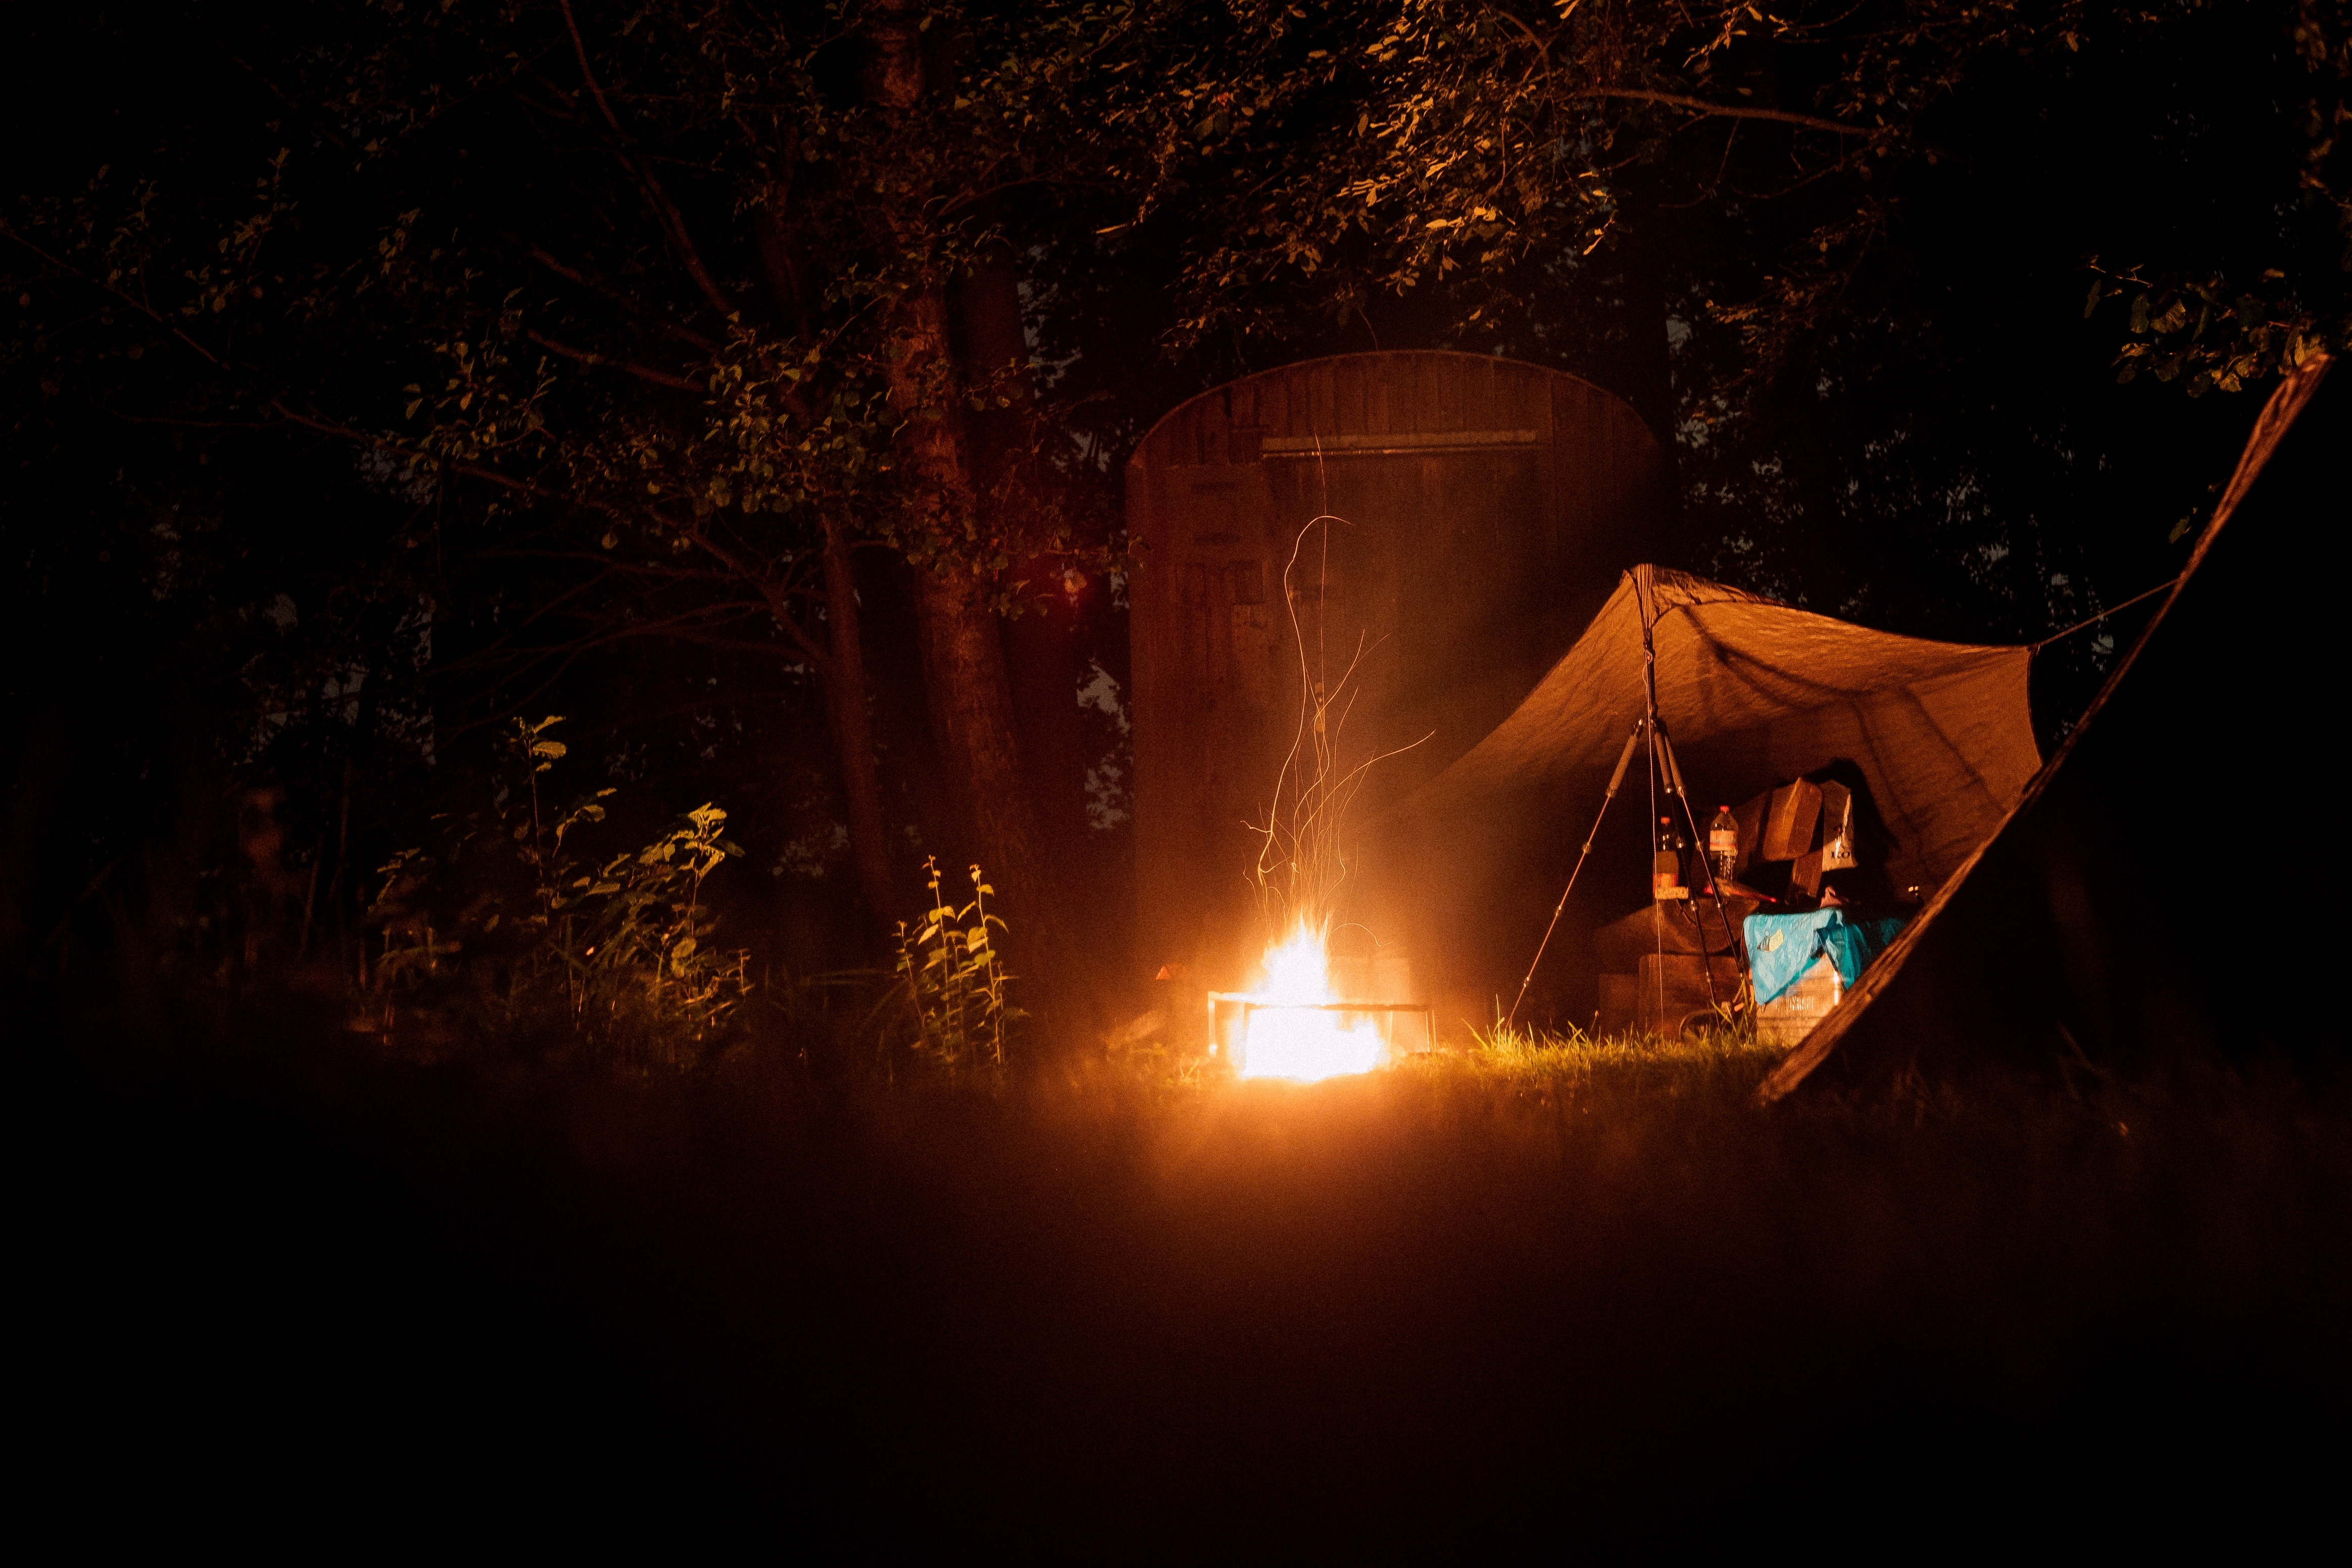fire: (1206, 899, 1402, 1080)
